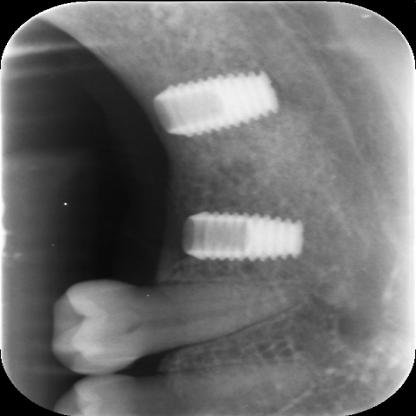Bicon: (158, 67, 278, 136), (177, 206, 309, 260)
